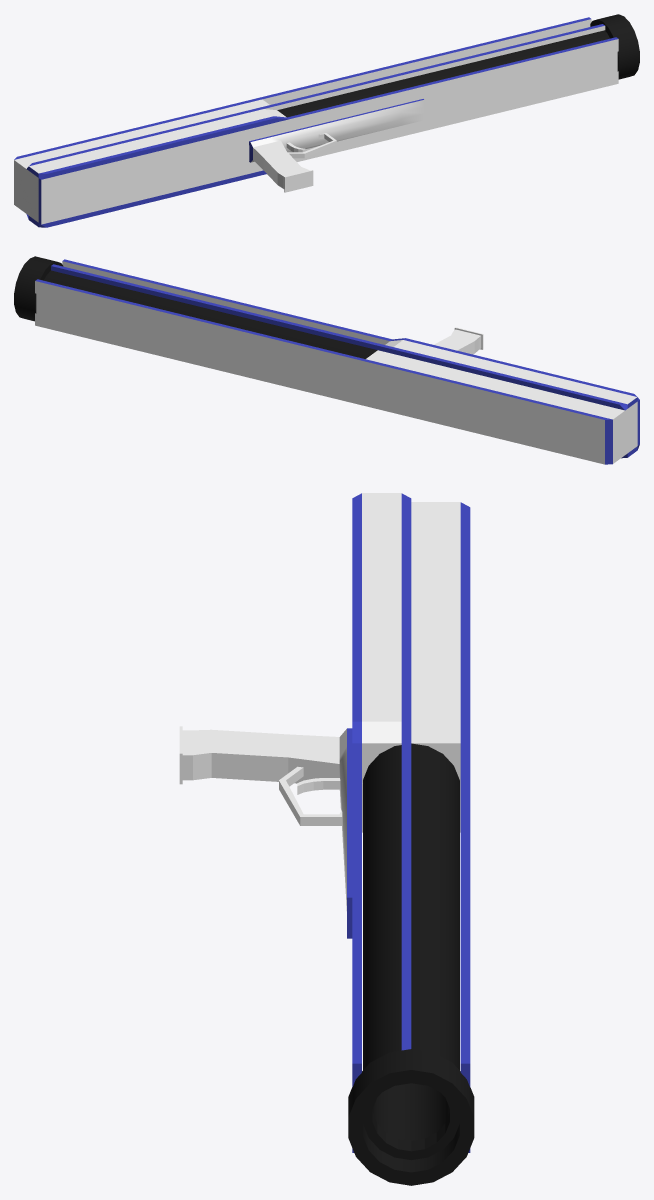
File: 火箭炮.fbx
3 renders of one model, top to bottom at view 1: azimuth 30°, elevation 25°; view 2: azimuth 150°, elevation 25°; view 3: azimuth 270°, elevation 25°, orthographic. The views are drawn at different scales.
Visible parts, largest first — view 1: 爆彈槍身001, 火箭炮, 爆彈管001, 爆彈管002; view 2: 爆彈槍身001, 爆彈管001, 爆彈管002, 火箭炮; view 3: 爆彈槍身001, 爆彈管001, 火箭炮, 爆彈管002.
Part boxes in pixels (x1,y1,x2,y2): 爆彈槍身001: (14, 17, 618, 227); 火箭炮: (249, 99, 424, 192); 爆彈管001: (277, 30, 609, 117); 爆彈管002: (590, 14, 639, 79); 爆彈槍身001: (35, 259, 639, 464); 爆彈管001: (44, 270, 377, 358); 爆彈管002: (14, 256, 63, 321); 火箭炮: (434, 327, 483, 354); 爆彈槍身001: (352, 493, 470, 1152); 爆彈管001: (363, 743, 459, 1160); 火箭炮: (179, 726, 352, 938); 爆彈管002: (348, 1049, 474, 1185).
Size of the model in its own units: 279 by 26 by 59.87.
